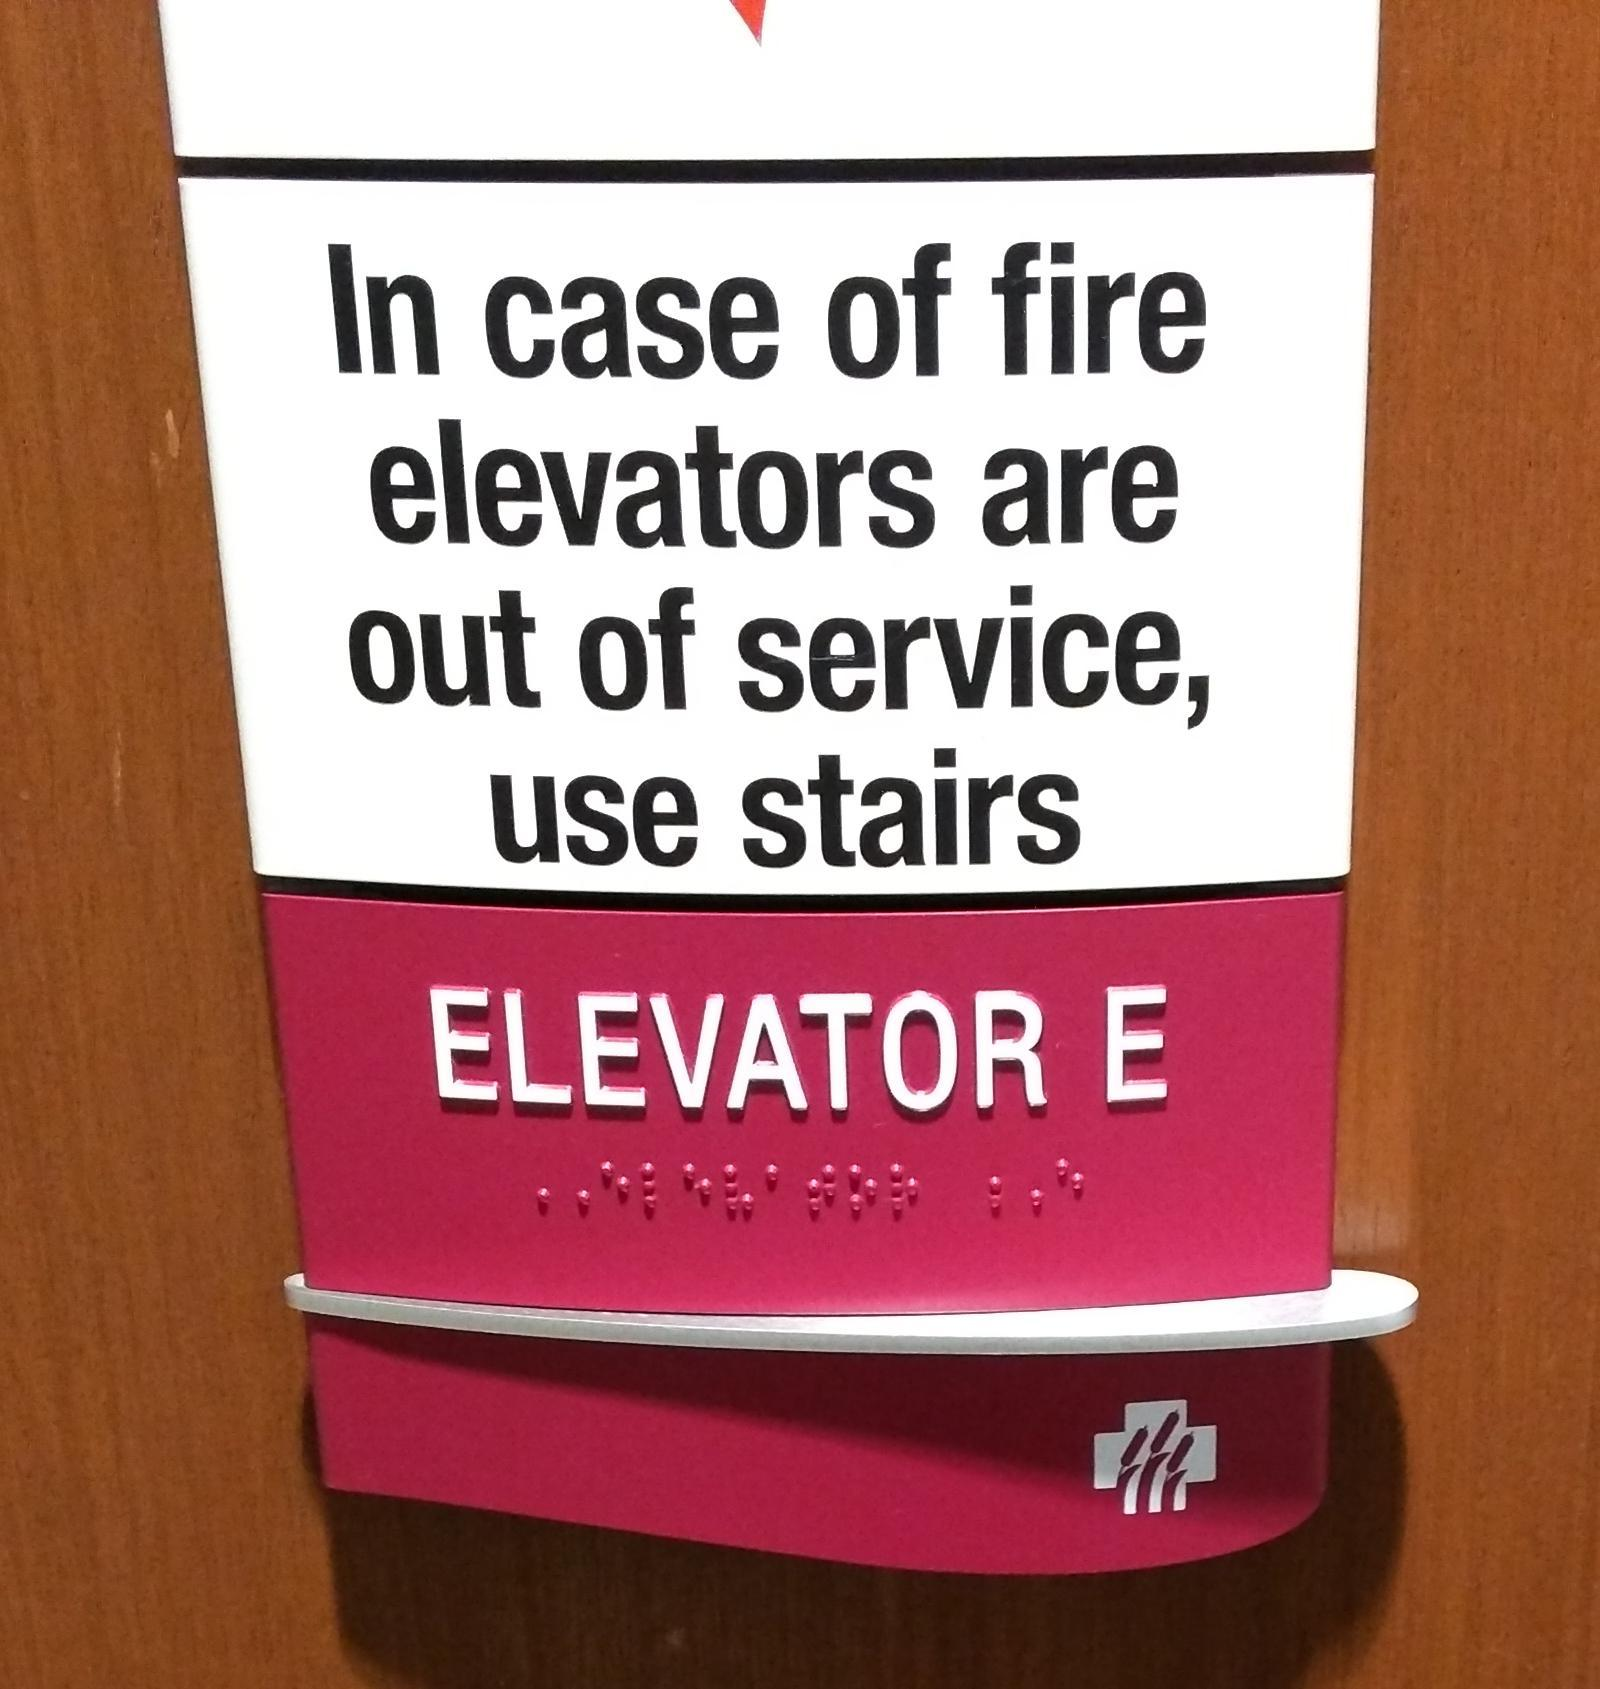sign: (162, 5, 1418, 1582)
